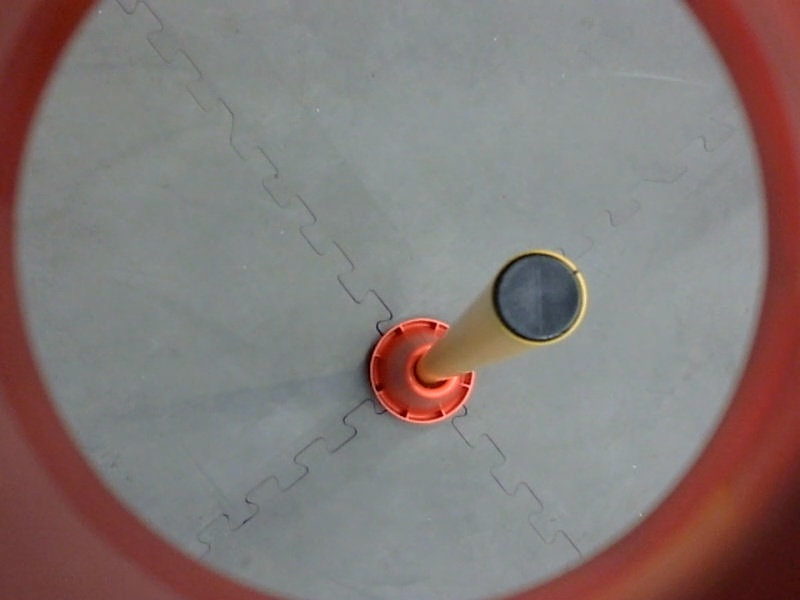tip: (483, 239, 595, 354)
